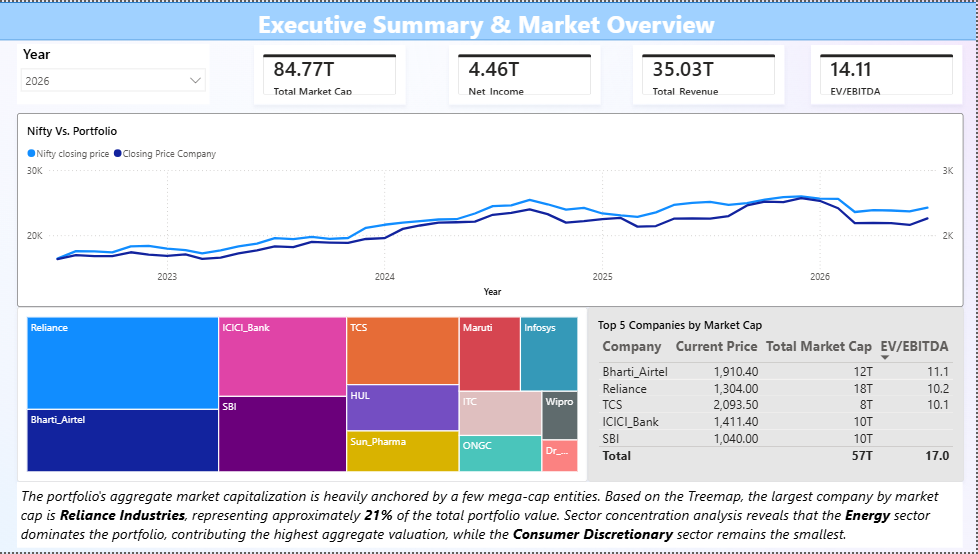

The page's visual inventory and layout, read from the dashboard file:
{"tool":"powerbi","page":{"name":"Page 1","canvas":[1280,720],"ordinal":0},"visuals":[{"type":"shape","box":[0,0,1280.2,50.4],"z":0},{"type":"textbox","box":[334.1,0,613.4,54.7],"z":1000},{"type":"lineChart","title":"Nifty Vs. Portfolio","fields":{"Y":["Nifty_50.Nifty closing price"],"Y2":["Stocks csv.Closing Price Company"],"Category":["Date Table.Date.Variation.Date Hierarchy.Year","Date Table.Date.Variation.Date Hierarchy.Month"]},"box":[23.2,144.8,1238.9,253.9],"z":2000},{"type":"cardVisual","fields":{"Data":["Market_Cap.EV/EBITDA"]},"box":[1062.7,56.2,198.7,77.8],"z":3000},{"type":"treemap","fields":{"Group":["Dim_Company.Company"],"Values":["Market_Cap.Total Market Cap"]},"box":[23.2,398.7,747.3,228.8],"z":4000},{"type":"tableEx","title":"Top 5 Companies by Market Cap","fields":{"Values":["Dim_Company.Company","Market_Cap.Current Price","Market_Cap.Total Market Cap","Market_Cap.EV/EBITDA"]},"box":[770.5,398.7,491.6,228.8],"z":5000},{"type":"cardVisual","fields":{"Data":["Income_Statements.Total_Revenue"]},"box":[829.4,56.2,198.7,77.8],"z":6000},{"type":"cardVisual","fields":{"Data":["Income_Statements.Net_Income"]},"box":[589,56.2,198.7,77.8],"z":7000},{"type":"cardVisual","fields":{"Data":["Market_Cap.Total Market Cap"]},"box":[334.1,56.2,198.7,77.8],"z":8000},{"type":"slicer","fields":{"Values":["Dim_Year.Year"]},"box":[23,54.7,252,79.2],"z":9000},{"type":"textbox","box":[23,627.8,1238.4,86.4],"z":10000}]}

Visuals, with their boxes in screenshot pixels (x1, y1, x2, y2), scaled from the page's 1280x720 canvas onto the 978x554 screenshot:
shape: {"left": 0, "top": 0, "right": 977, "bottom": 39}
textbox: {"left": 255, "top": 0, "right": 724, "bottom": 42}
"Nifty Vs. Portfolio" lineChart: {"left": 18, "top": 111, "right": 964, "bottom": 307}
cardVisual - Market_Cap.EV/EBITDA: {"left": 812, "top": 43, "right": 964, "bottom": 103}
treemap - Dim_Company.Company x Market_Cap.Total Market Cap: {"left": 18, "top": 307, "right": 589, "bottom": 483}
"Top 5 Companies by Market Cap" tableEx: {"left": 589, "top": 307, "right": 964, "bottom": 483}
cardVisual - Income_Statements.Total_Revenue: {"left": 634, "top": 43, "right": 786, "bottom": 103}
cardVisual - Income_Statements.Net_Income: {"left": 450, "top": 43, "right": 602, "bottom": 103}
cardVisual - Market_Cap.Total Market Cap: {"left": 255, "top": 43, "right": 407, "bottom": 103}
slicer - Dim_Year.Year: {"left": 18, "top": 42, "right": 210, "bottom": 103}
textbox: {"left": 18, "top": 483, "right": 964, "bottom": 550}
